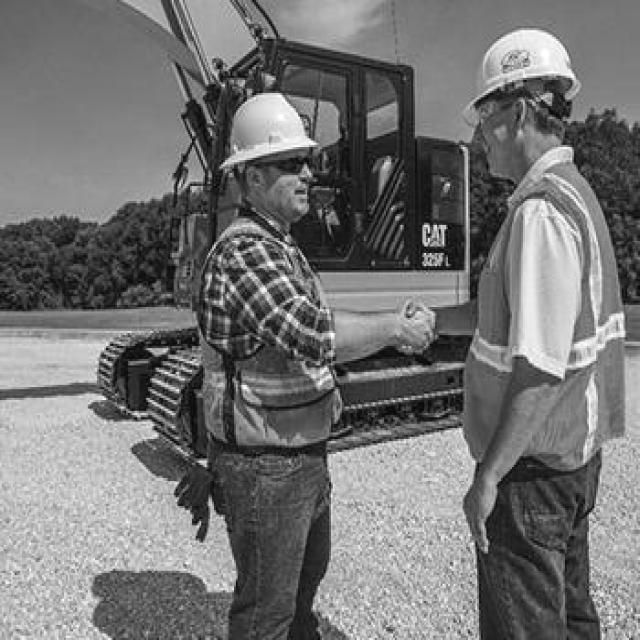face_nomask: (470, 97, 534, 182), (258, 147, 320, 227)
glasses: (271, 150, 320, 181)
hand_noglove: (390, 294, 442, 370), (464, 465, 503, 558)
head_helmet: (459, 28, 581, 128), (223, 91, 320, 166)
person: (456, 18, 619, 632), (198, 88, 351, 640)
vest: (484, 175, 622, 454), (200, 235, 336, 460)
